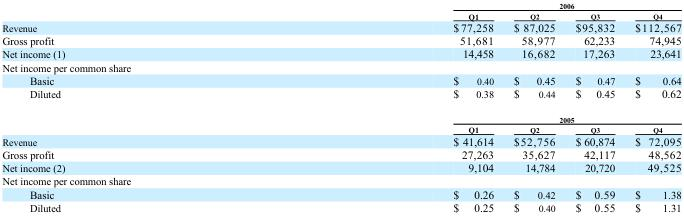table: (1, 1, 680, 213)
table column: (1, 1, 258, 213), (258, 1, 503, 213), (503, 1, 564, 213), (564, 1, 624, 213), (624, 1, 680, 213)
table column header: (1, 1, 680, 20)
table projected row header: (1, 60, 680, 73), (1, 174, 680, 187)
table row: (1, 86, 680, 107), (1, 107, 680, 124), (1, 46, 680, 60), (1, 160, 680, 174), (1, 20, 680, 33), (1, 33, 680, 46), (1, 60, 680, 73), (1, 73, 680, 86), (1, 134, 680, 147), (1, 147, 680, 160), (1, 174, 680, 187), (1, 187, 680, 200), (1, 200, 680, 213), (1, 10, 680, 20), (1, 124, 680, 134), (1, 1, 680, 10)
table spanning cell: (258, 107, 680, 124), (258, 1, 680, 10)
